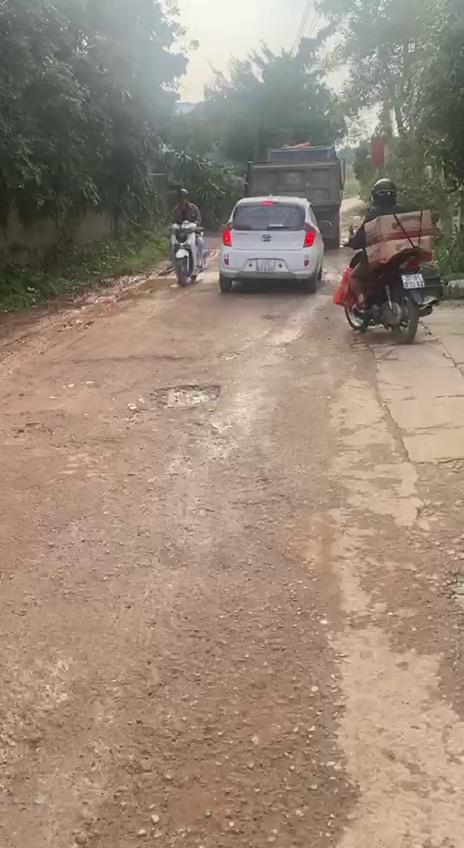pothole: (145, 380, 226, 416)
